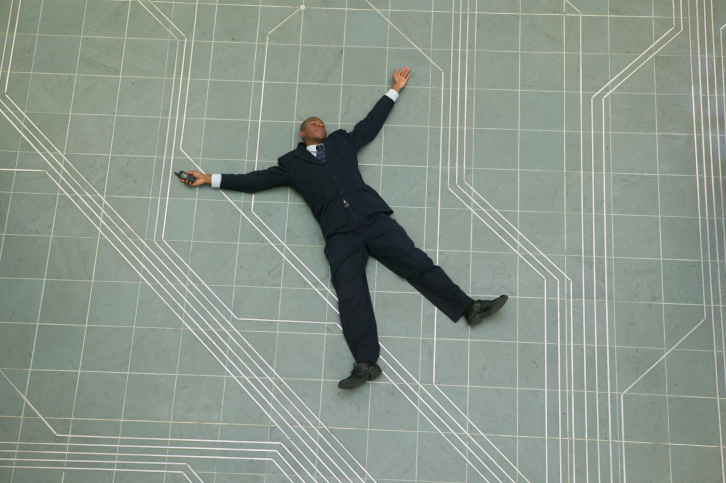collapsed: (5, 12, 707, 483)
